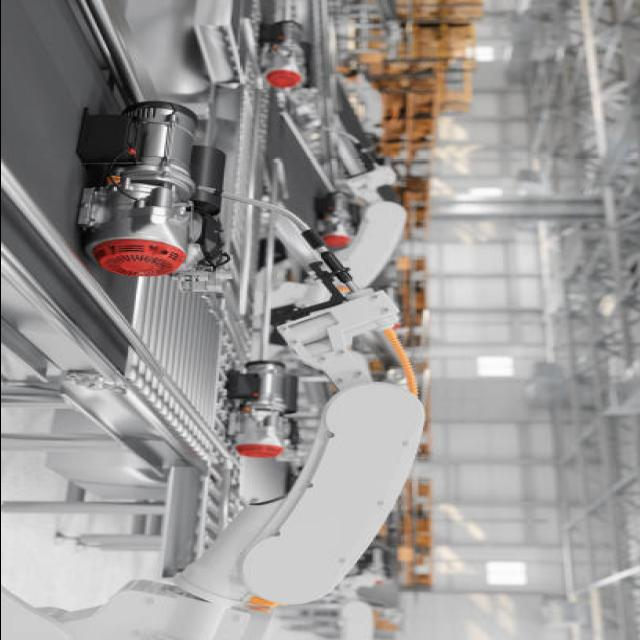Robotic-arm: (0, 282, 436, 634)
